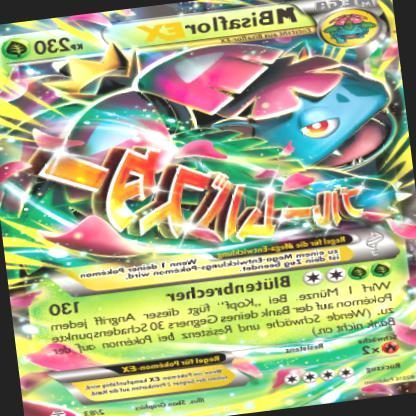Venusaur: (1, 47, 414, 274)
